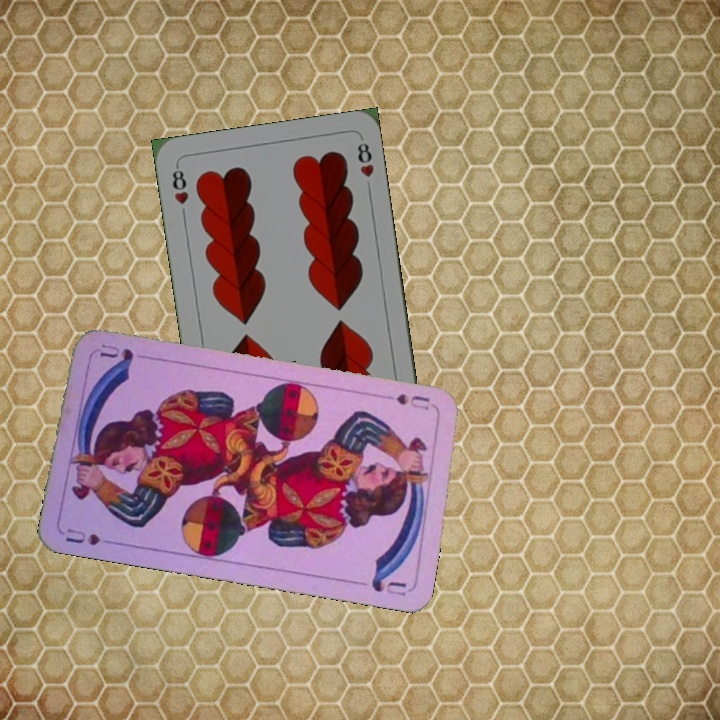H8: (168, 161, 192, 207)
SU: (392, 389, 438, 412), (61, 524, 103, 549)
